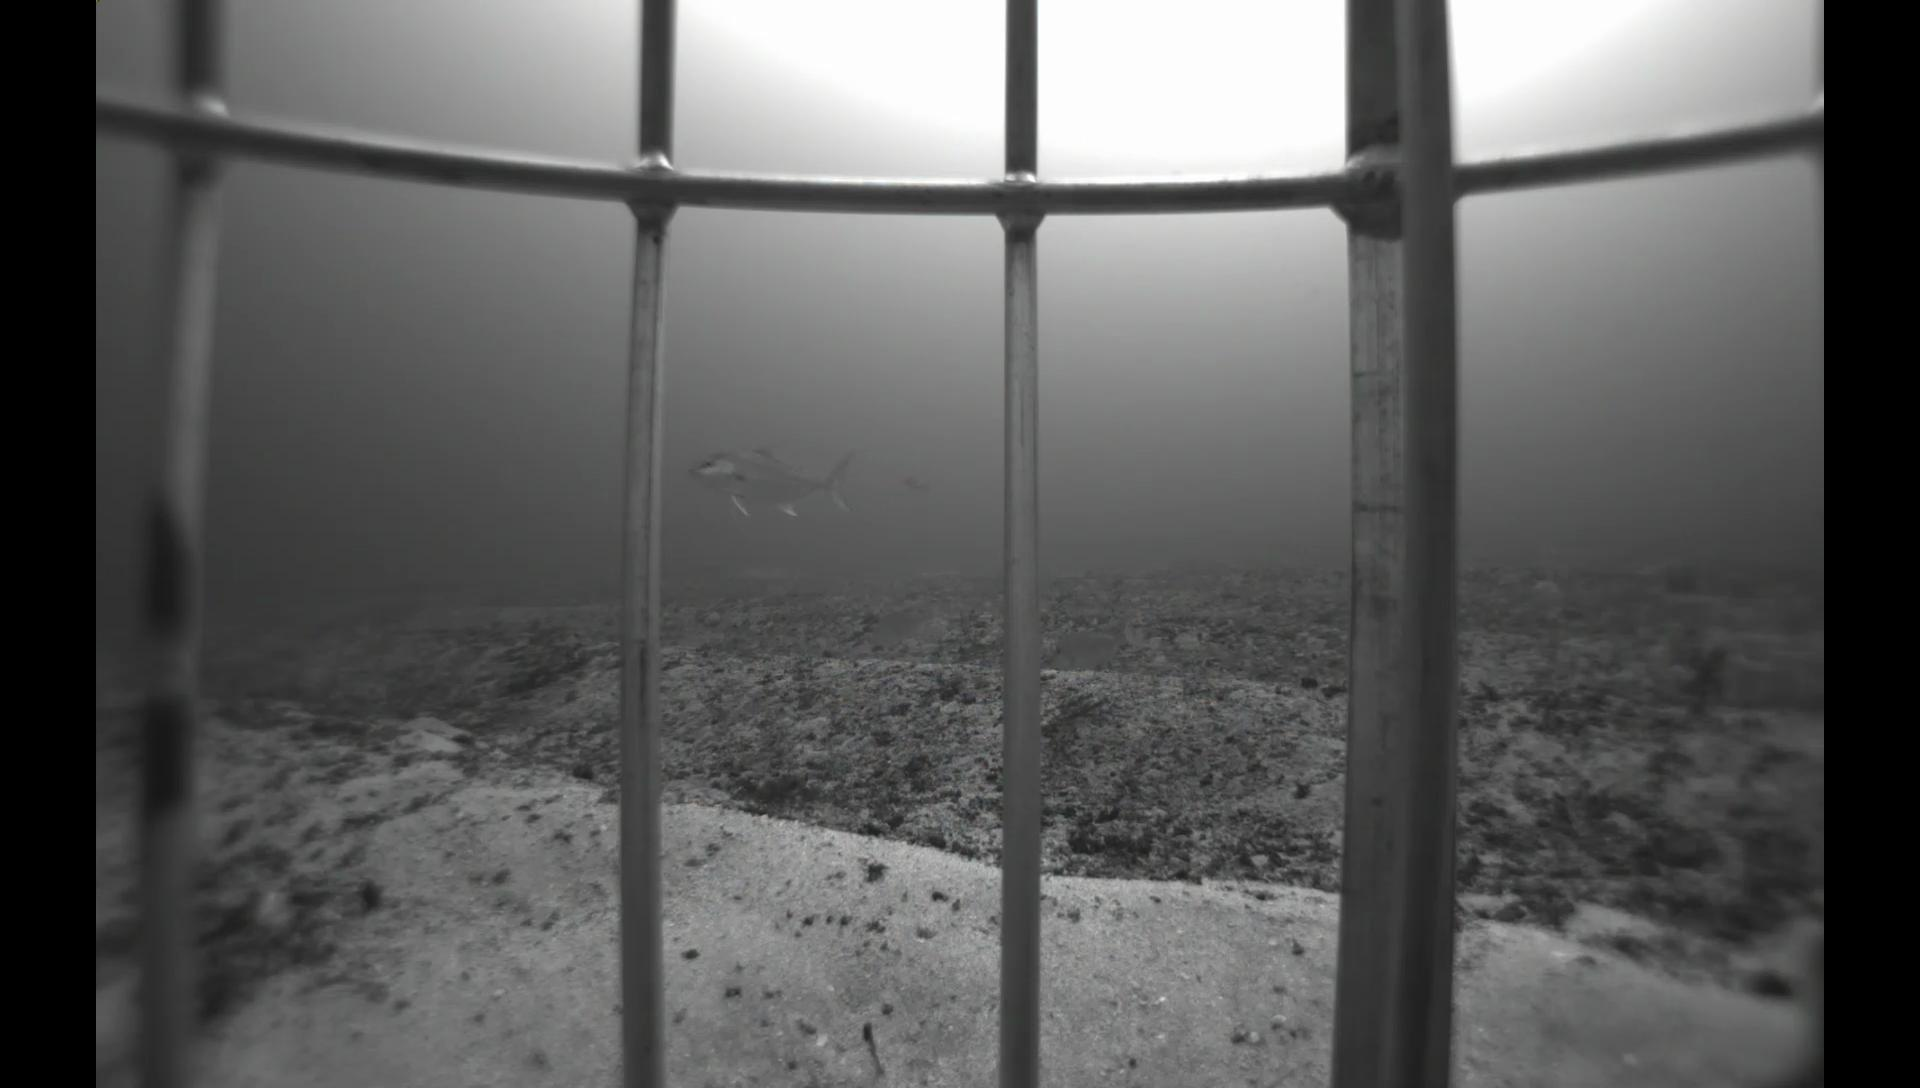CALAMUS-170210600: (1046, 609, 1149, 673), (862, 593, 938, 655)
EPINEPHELUSMORIO-170021211: (1713, 930, 1821, 1085)
RHOMBOPLITESAURORUBENS-170152001: (887, 469, 936, 495)
SERIOLARIVOLIANA-170113105: (683, 438, 860, 528)
